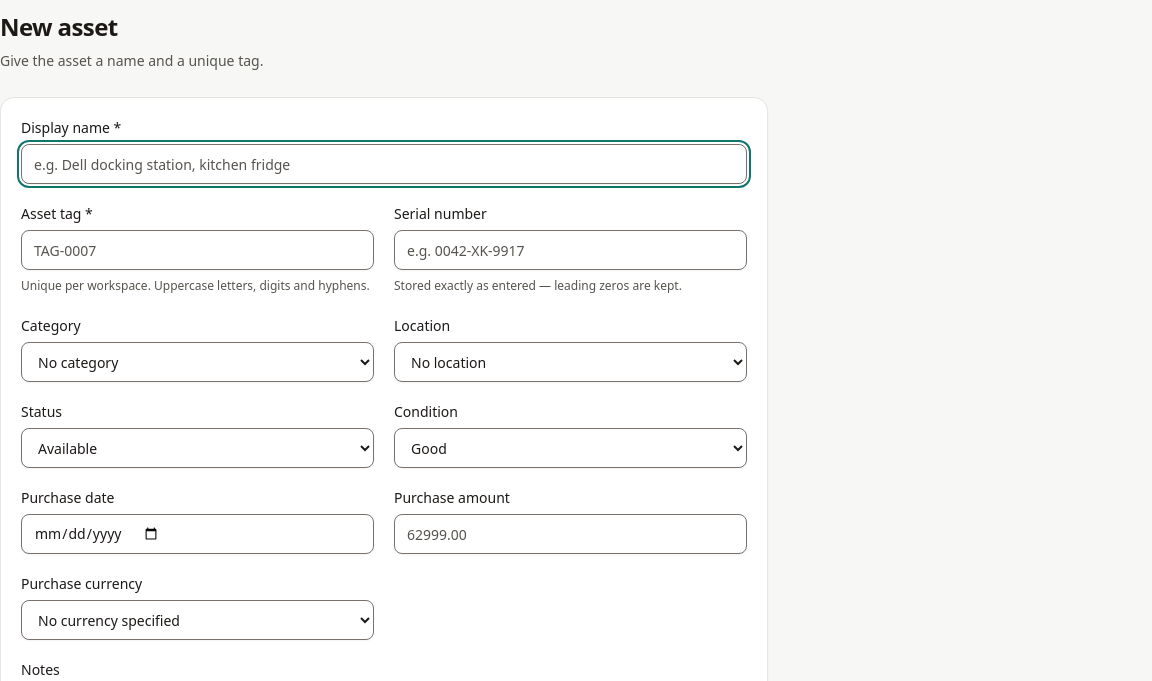
Test: AssetForm › shows an inline error when the asset tag is invalid
Type "Docking station" into the field labelled "Display name *" at (384, 164), box [21,144,747,184]
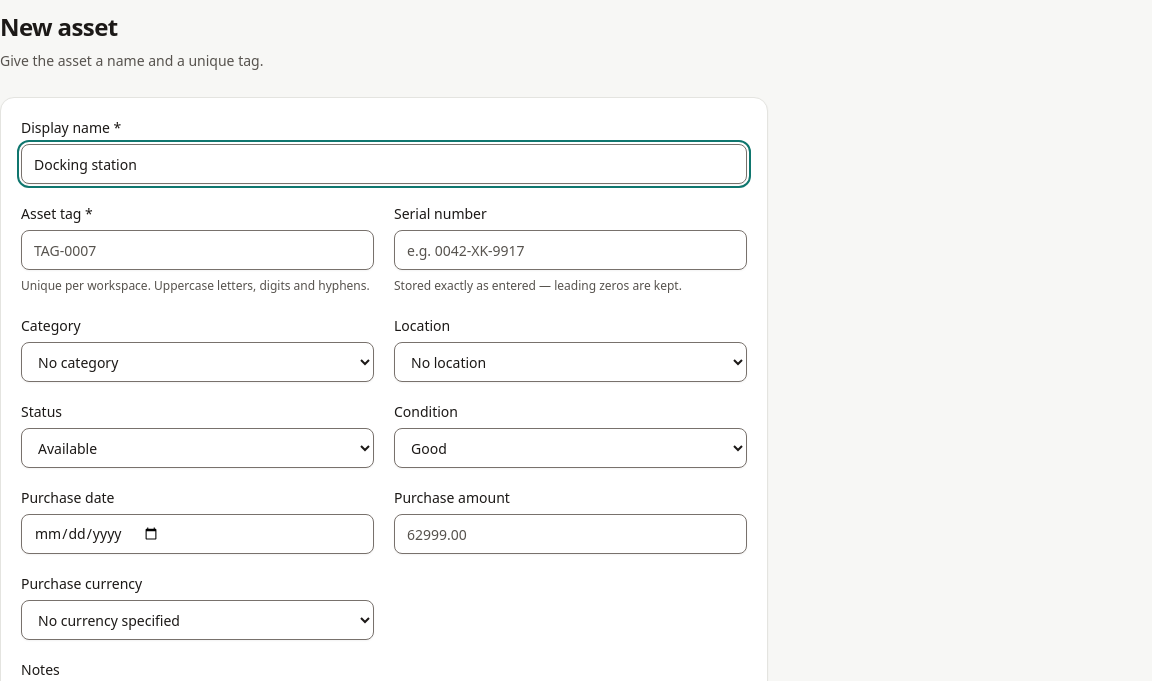
Type "bad tag!" into the field labelled "Asset tag *" at (198, 250), box [21,230,374,270]
(page scrolled)
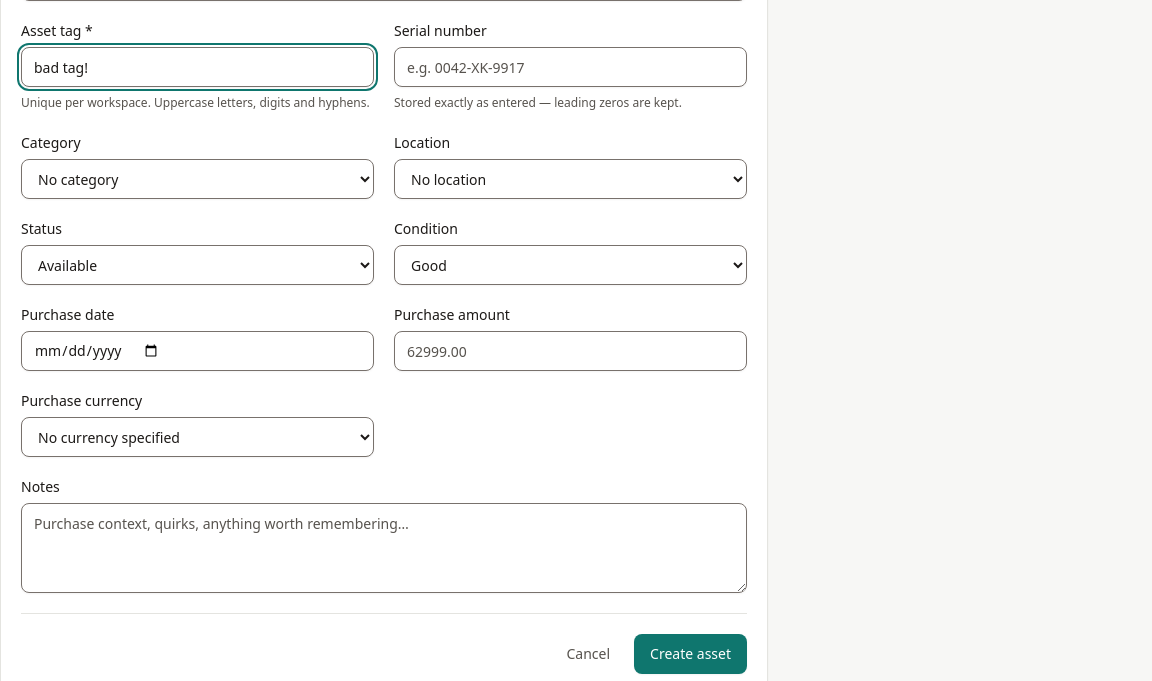
Click the button "Create asset" at (691, 654), box [634,634,747,674]
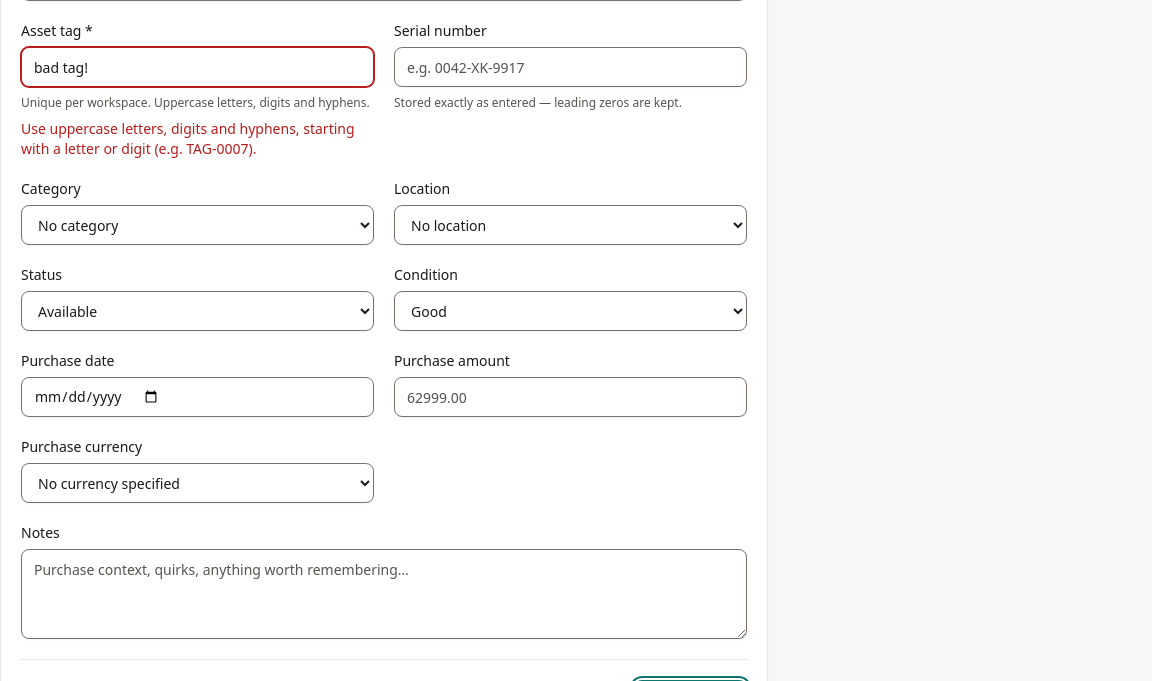
Check: the text "Use uppercase letters" is shown, box [21,119,355,158]
